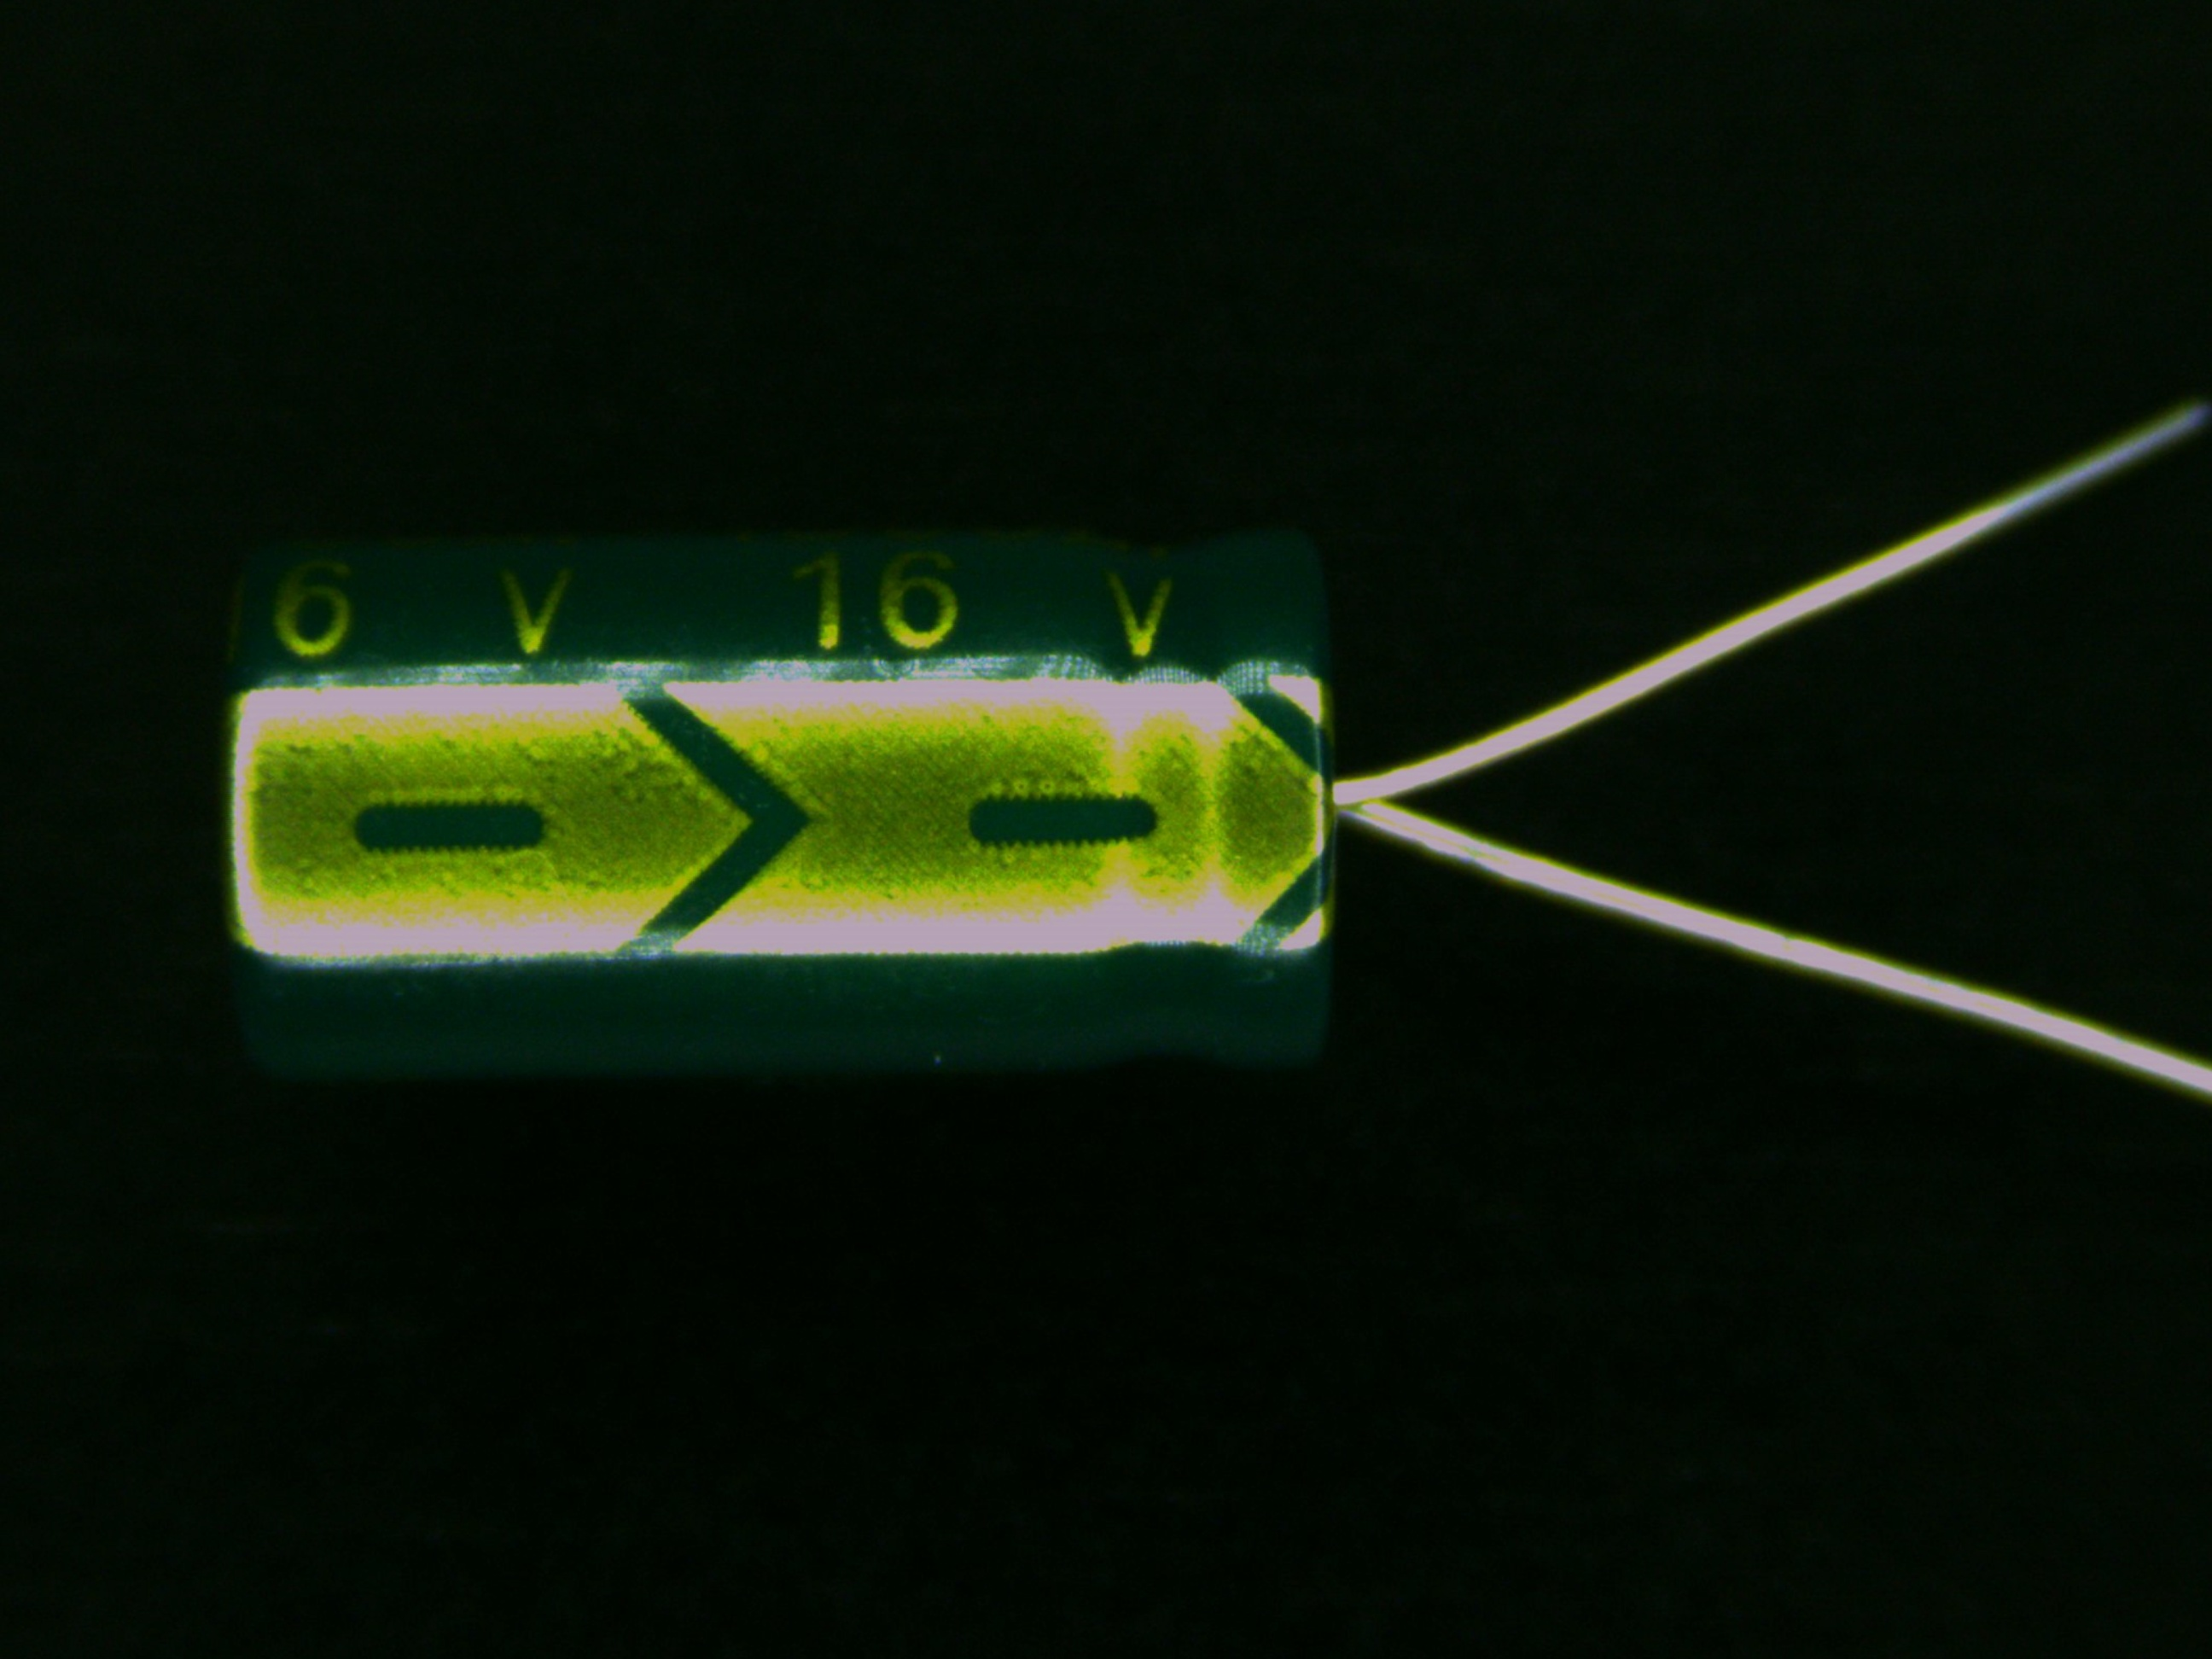c1: (221, 519, 1634, 1087)
